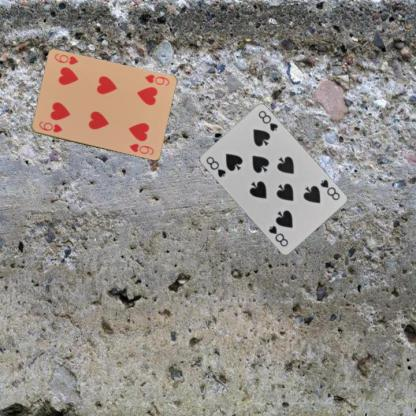6h: (142, 72, 171, 87), (36, 119, 63, 134)
8s: (317, 176, 341, 202), (203, 154, 227, 178)
